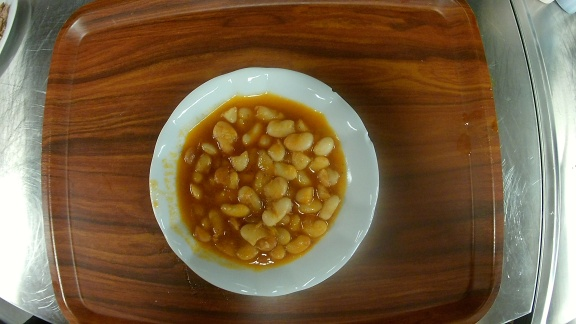kurufasulye: (147, 65, 380, 296)
